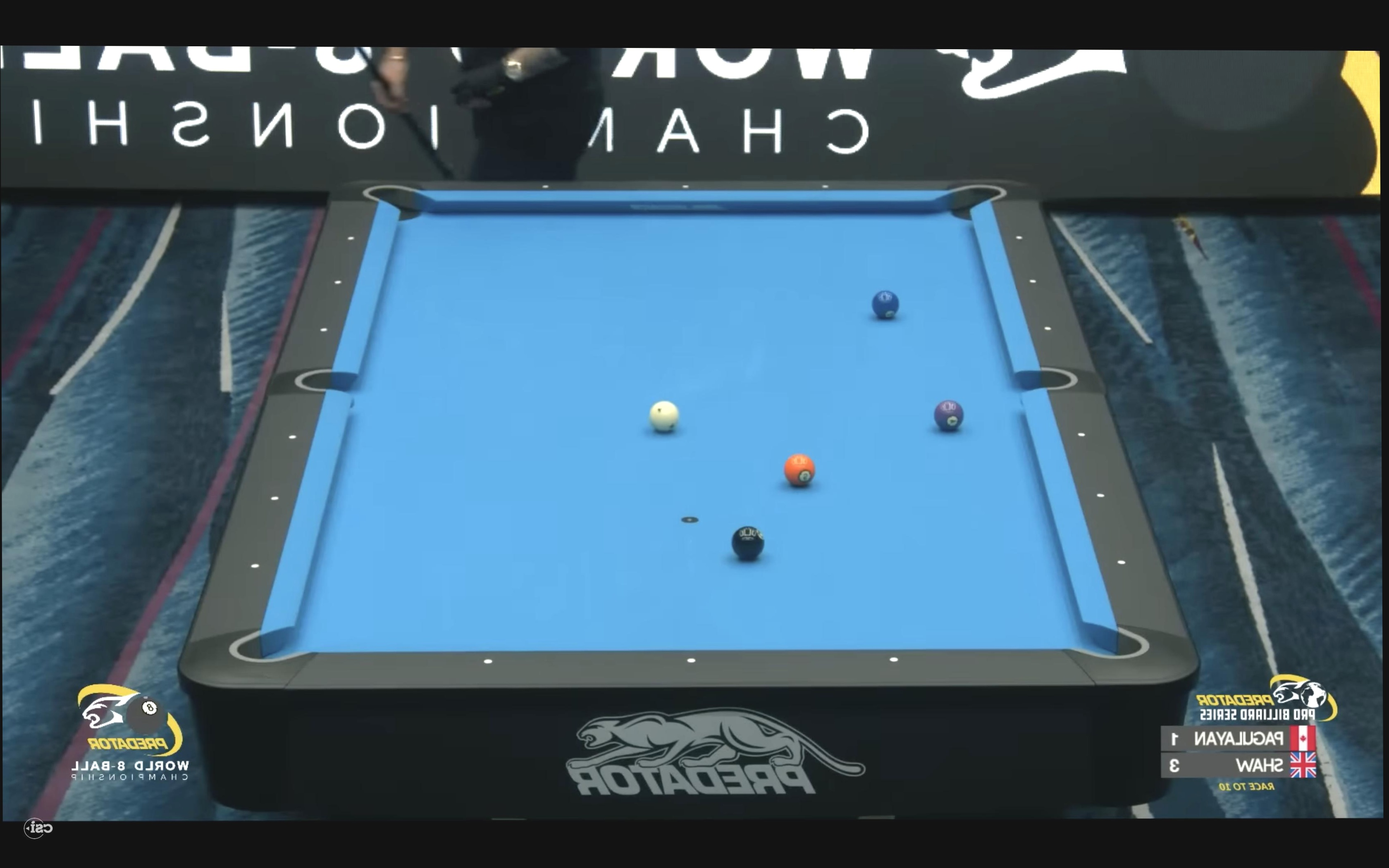Black: (731, 525, 764, 560)
Cue: (649, 401, 679, 432)
Solid: (889, 657, 898, 662), (687, 658, 696, 663), (483, 659, 492, 664), (251, 564, 259, 569), (271, 496, 279, 501), (334, 280, 342, 285), (1117, 560, 1125, 565), (347, 236, 354, 241), (288, 435, 296, 439), (1015, 236, 1023, 240), (320, 328, 327, 332), (1029, 279, 1036, 283), (1044, 327, 1051, 331), (1078, 433, 1085, 437), (1097, 493, 1104, 497), (542, 185, 549, 188), (682, 185, 689, 188), (822, 185, 828, 188)
Striped: (784, 454, 815, 486), (933, 400, 964, 431), (872, 290, 899, 319)
